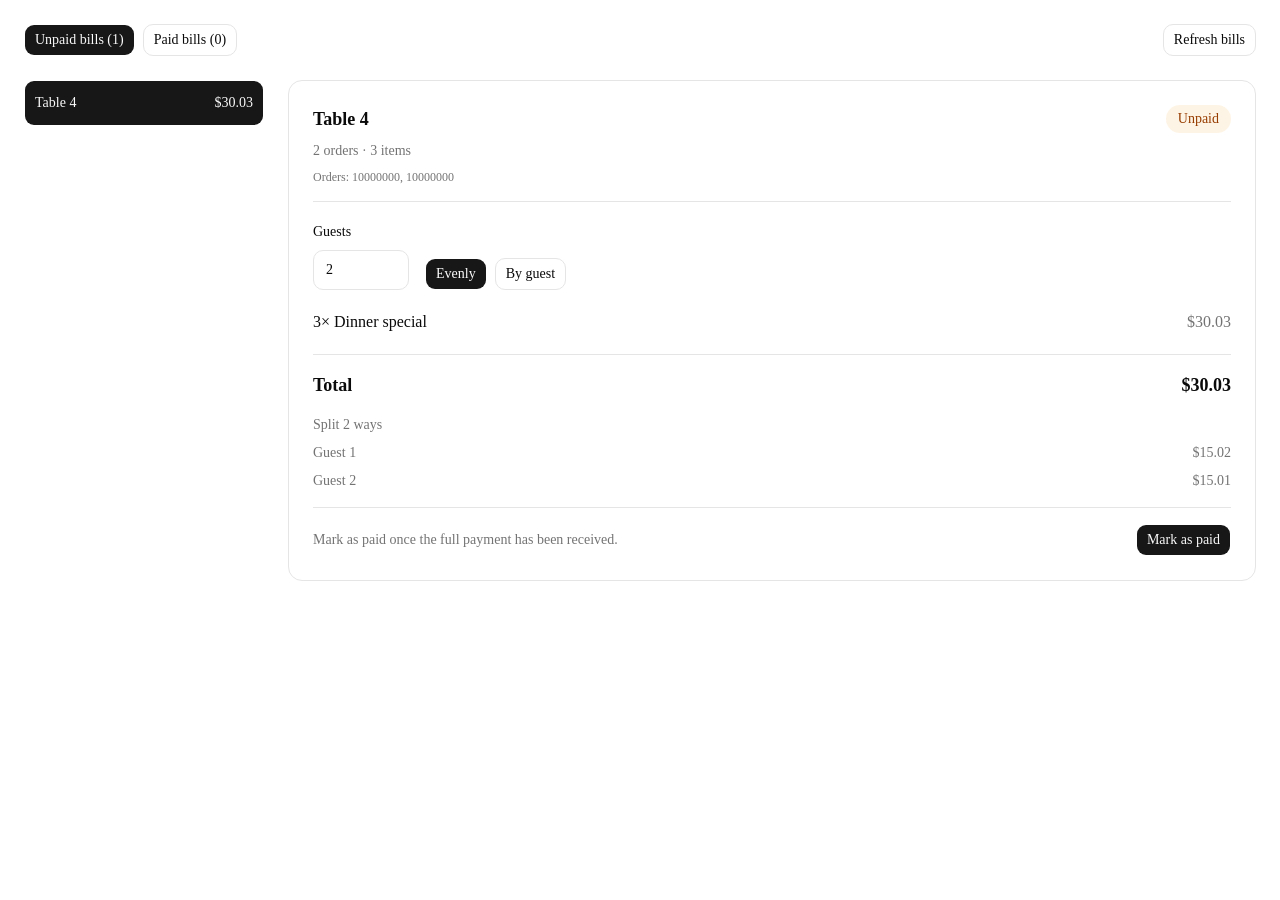
Test: lets staff assign lines to guests before previewing a guest split
Click the button "By guest".
click(530, 274)  # box [495,258,566,290]
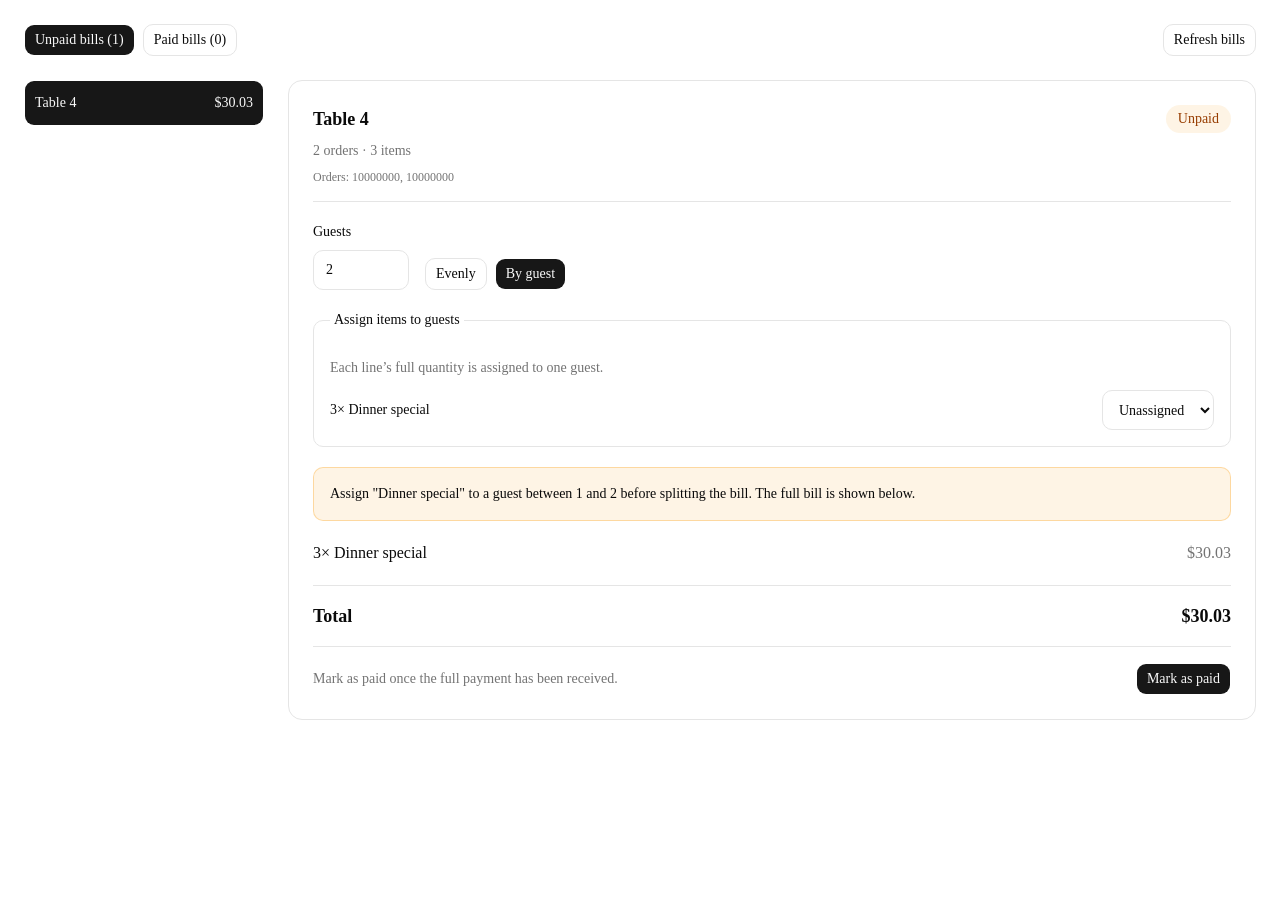
Now the 2nd message shows "Assign", box [330,486,752,501]
Select "Guest 2" in the dropdown at (1158, 410), box [1102,390,1214,430]
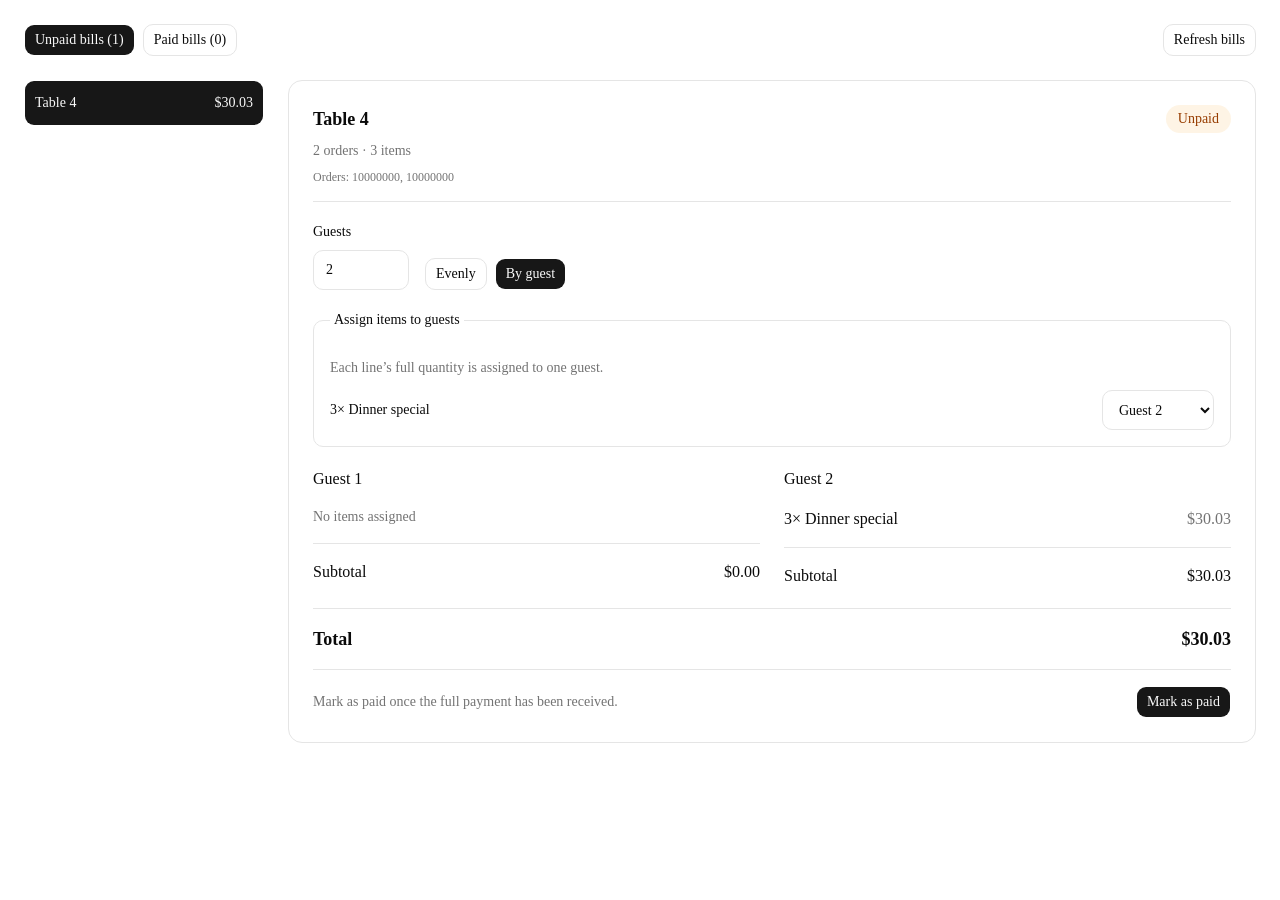
Now the element "Guest 2" shows "$30.03", box [1187,510,1231,527]
